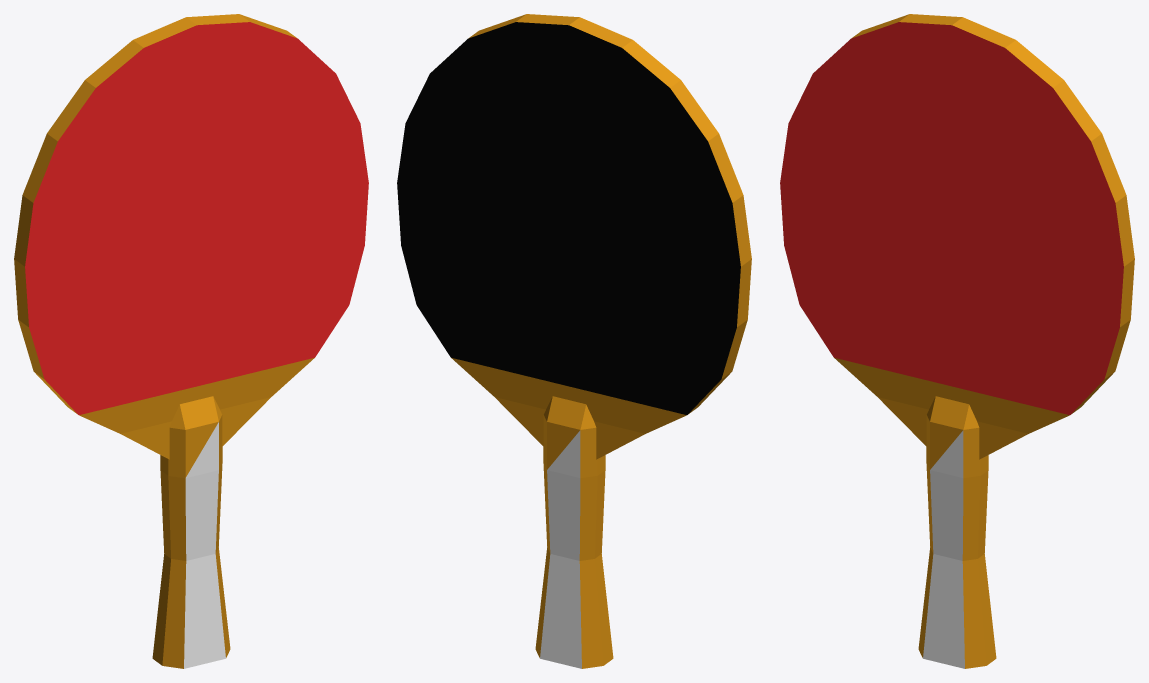
The model's file is Pong_Racket_2.fbx.
3 renders of one model, left to right at view 1: azimuth 30°, elevation 25°; view 2: azimuth 150°, elevation 25°; view 3: azimuth 330°, elevation 25°, orthographic.
Visible parts, largest first — view 1: Pong_Racket_2; view 2: Pong_Racket_2; view 3: Pong_Racket_2.
Part boxes in pixels (<box>): Pong_Racket_2: <box>14,14,368,668</box>; Pong_Racket_2: <box>397,14,751,668</box>; Pong_Racket_2: <box>780,14,1134,668</box>.
Size of the model in its own units: 22.17 by 38.99 by 3.01.
